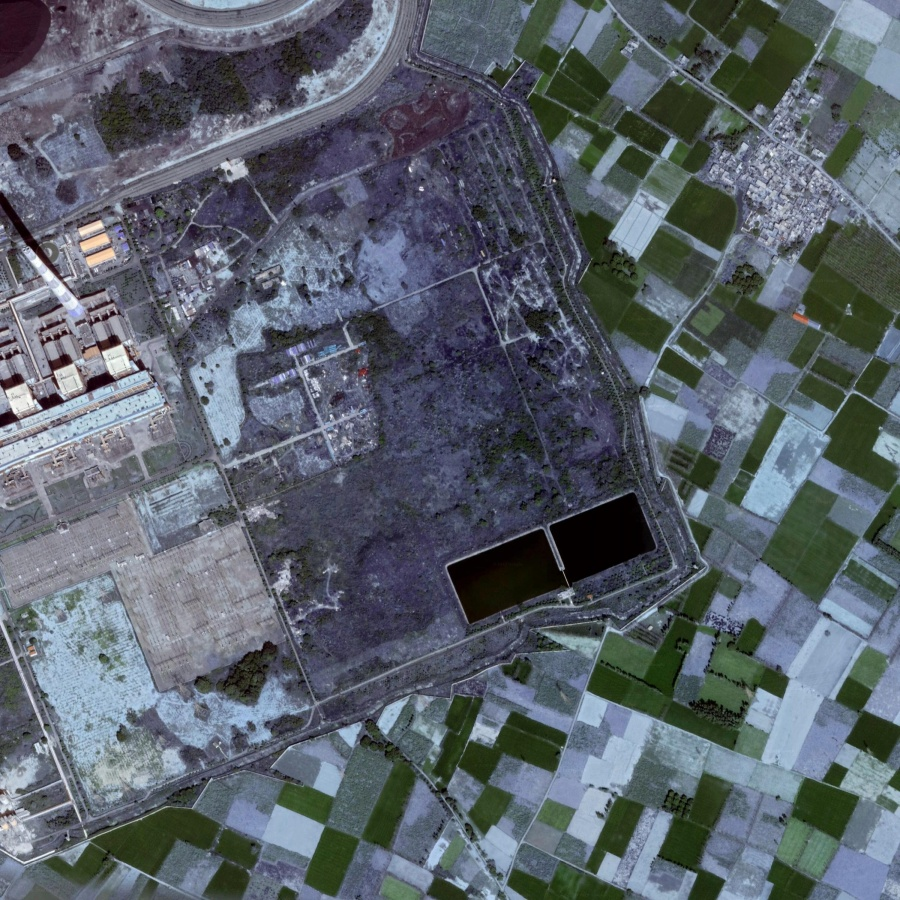PowerPlant: (426, 472, 667, 658)
